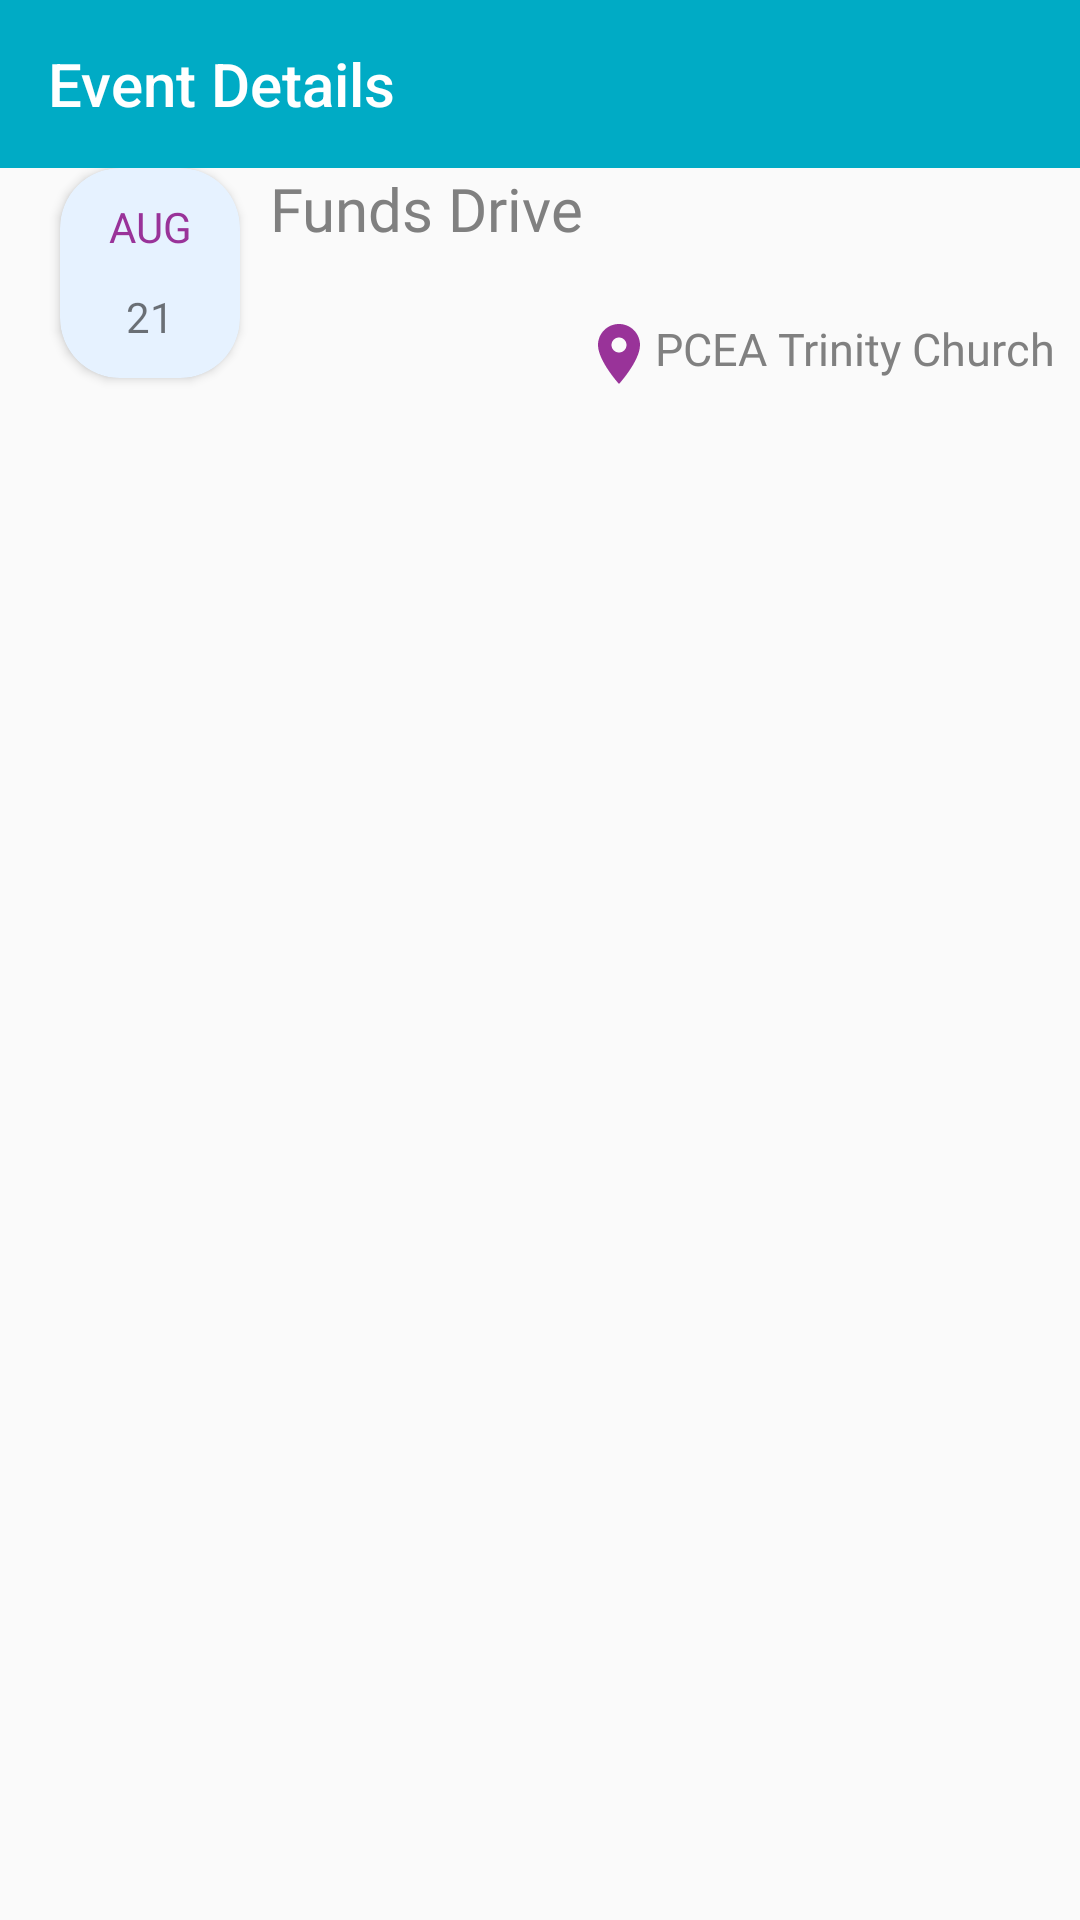

Icon bounding boxes for this 1080px x 1920px phone screenshot, format (x1, y1, x2, y2):
location: (598, 324, 640, 384)
